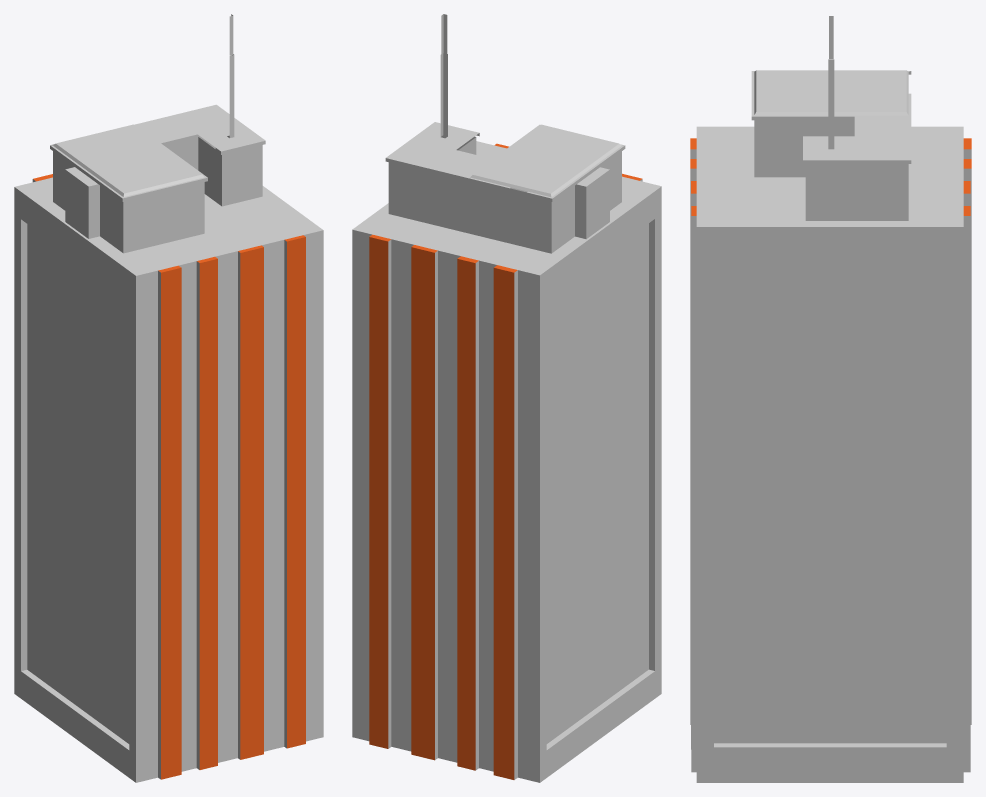
3 renders of one model, left to right at view 1: azimuth 30°, elevation 25°; view 2: azimuth 150°, elevation 25°; view 3: azimuth 270°, elevation 25°, orthographic. The views are drawn at different scales.
Visible parts, largest first — view 1: Cube.008; view 2: Cube.008; view 3: Cube.008.
Boxes of the visible parts, <box> form: Cube.008: <box>14,14,323,782</box>; Cube.008: <box>352,14,661,782</box>; Cube.008: <box>690,16,971,782</box>.
Size of the model in its own units: 531 by 1852 by 629.
